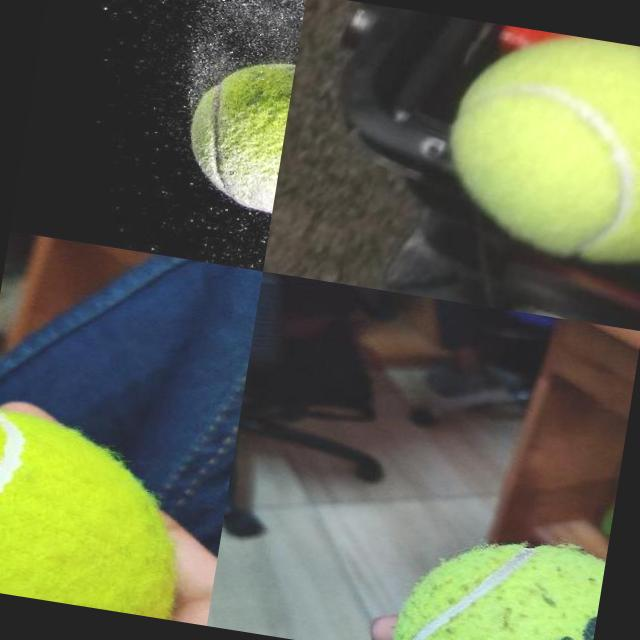Tennis Ball: (430, 19, 640, 273), (0, 406, 200, 619), (388, 518, 607, 640), (177, 49, 296, 215)
